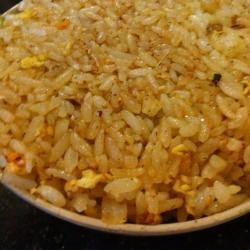rice: (15, 28, 237, 200)
